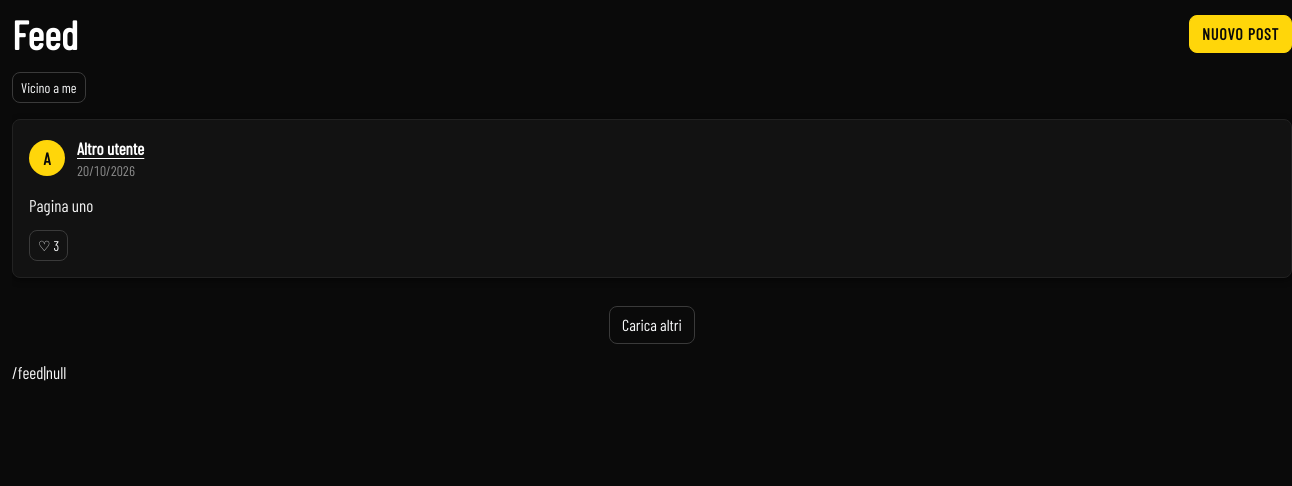
FeedPage · elenco › «Carica altri» aggiunge la pagina dopo e sparisce all'ultima
This screenshot has width=1292, height=486.
Expected: the text "Pagina uno" is shown, [29,195,93,215]
Click the button "Carica altri" at {"x": 652, "y": 325}, box [609,306,695,344]
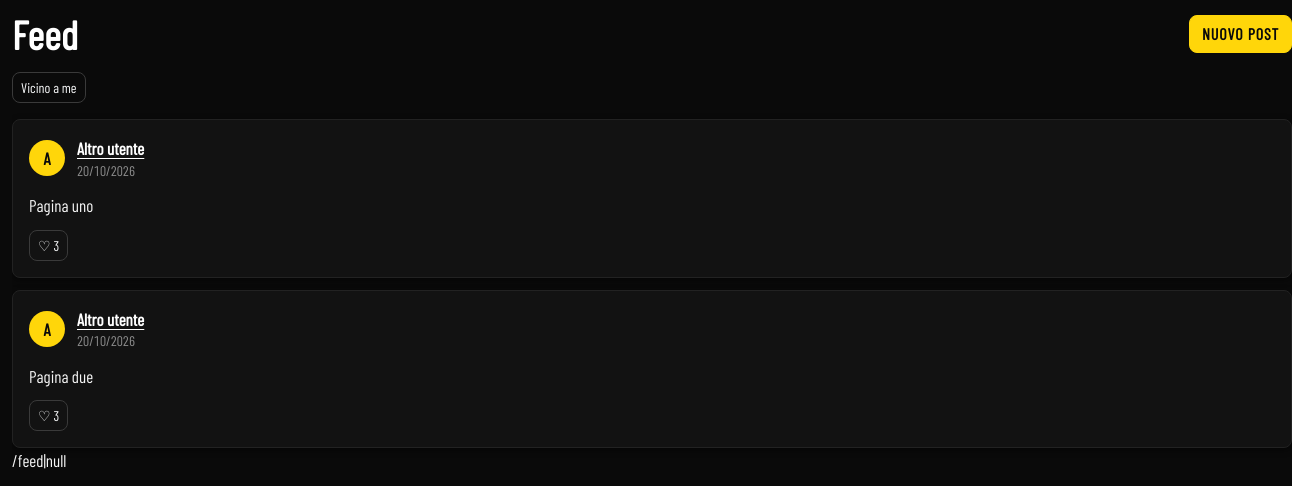
Expected: the text "Pagina uno" is shown, [29,195,93,215]
Expected: the text "Pagina due" is shown, [29,366,93,386]
Expected: the button "Carica altri" is gone
